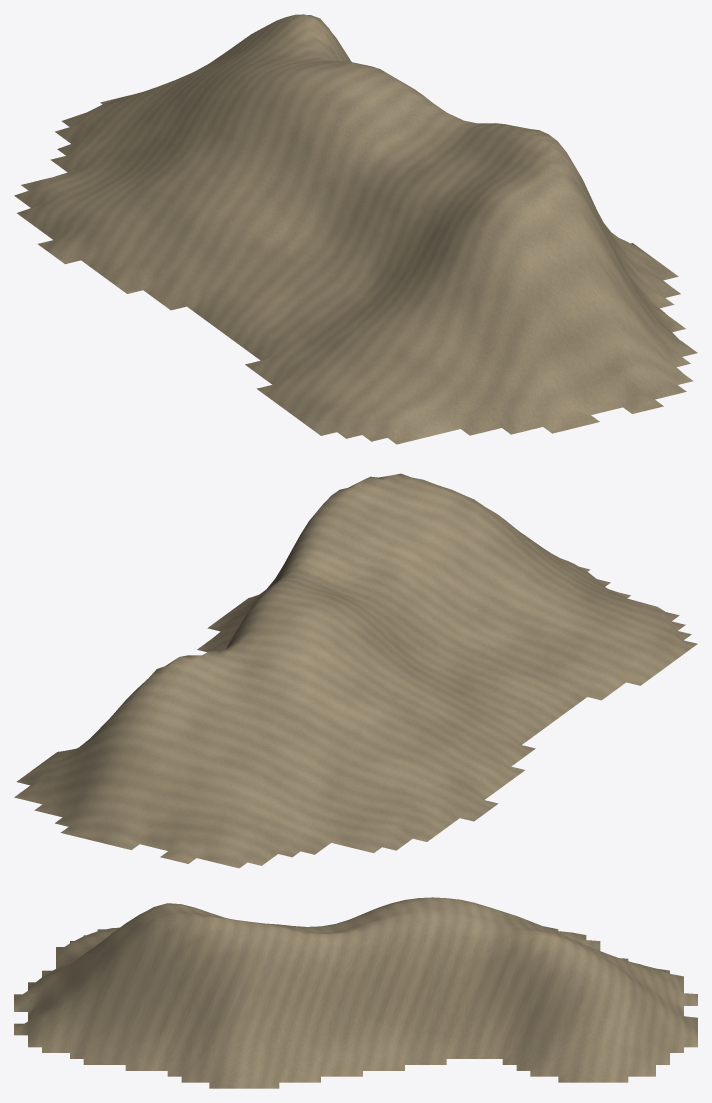
The model's file is border_dune_b_v5_dead.glb.
3 renders of one model, top to bottom at view 1: azimuth 30°, elevation 25°; view 2: azimuth 150°, elevation 25°; view 3: azimuth 270°, elevation 25°, orthographic. The views are drawn at different scales.
Visible parts, largest first — view 1: border_dune_b; view 2: border_dune_b; view 3: border_dune_b.
Boxes of the visible parts, box(x1,y1,x2,y2) form: border_dune_b: box(14, 14, 697, 444); border_dune_b: box(14, 473, 697, 868); border_dune_b: box(14, 897, 697, 1088).
Size of the model in its own units: 0.5957 by 0.2078 by 1.04.
1 material, 1 textured.
